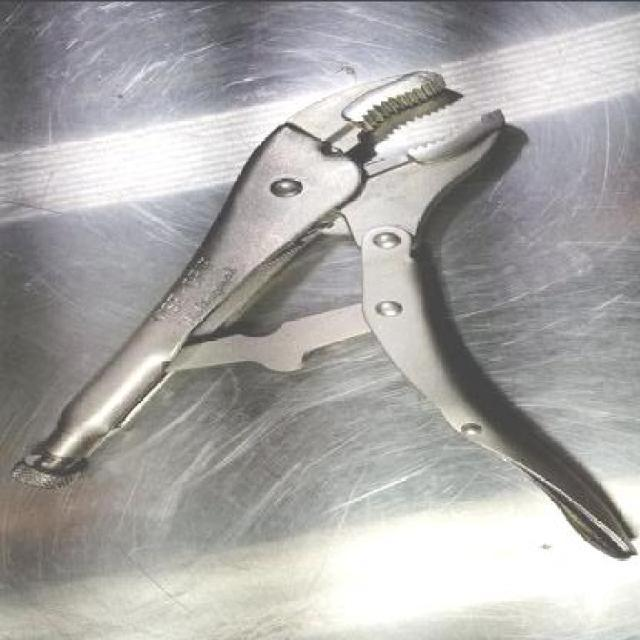pliers: (6, 64, 626, 572)
